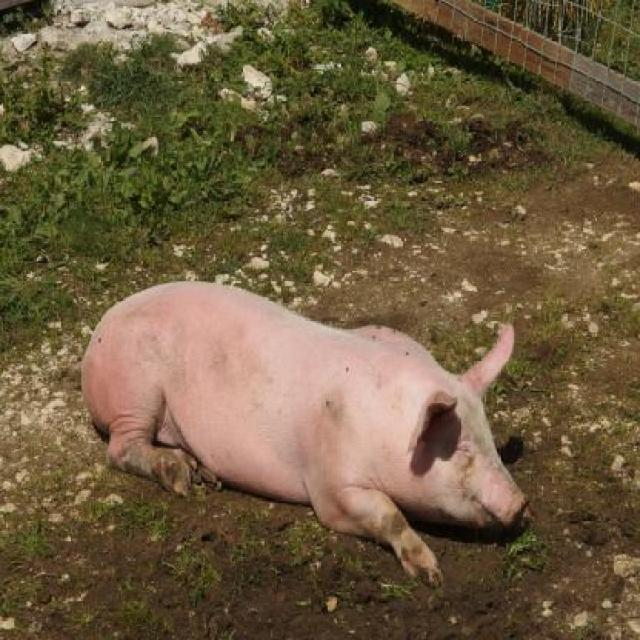Boar: (78, 282, 531, 589)
